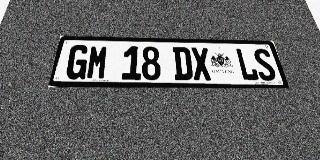1: (121, 46, 141, 80)
8: (142, 46, 161, 80)
D: (172, 47, 193, 80)
G: (64, 45, 90, 79)
L: (235, 48, 260, 81)
M: (85, 45, 109, 80)
S: (252, 49, 278, 81)
X: (190, 47, 212, 80)
